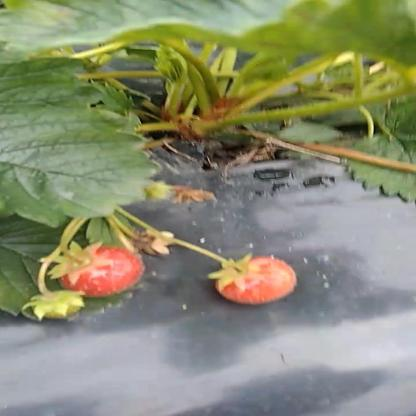ripe: (52, 241, 146, 300), (210, 256, 303, 307)
unripe: (26, 291, 86, 322)
